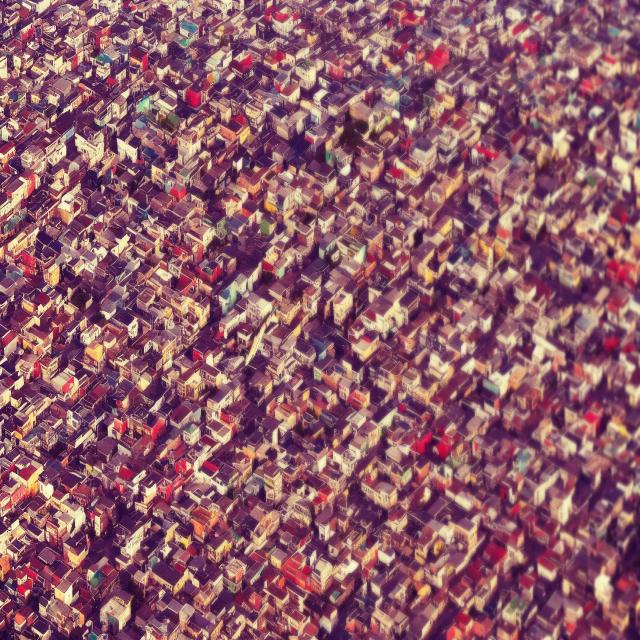airplane: (244, 303, 280, 367)
